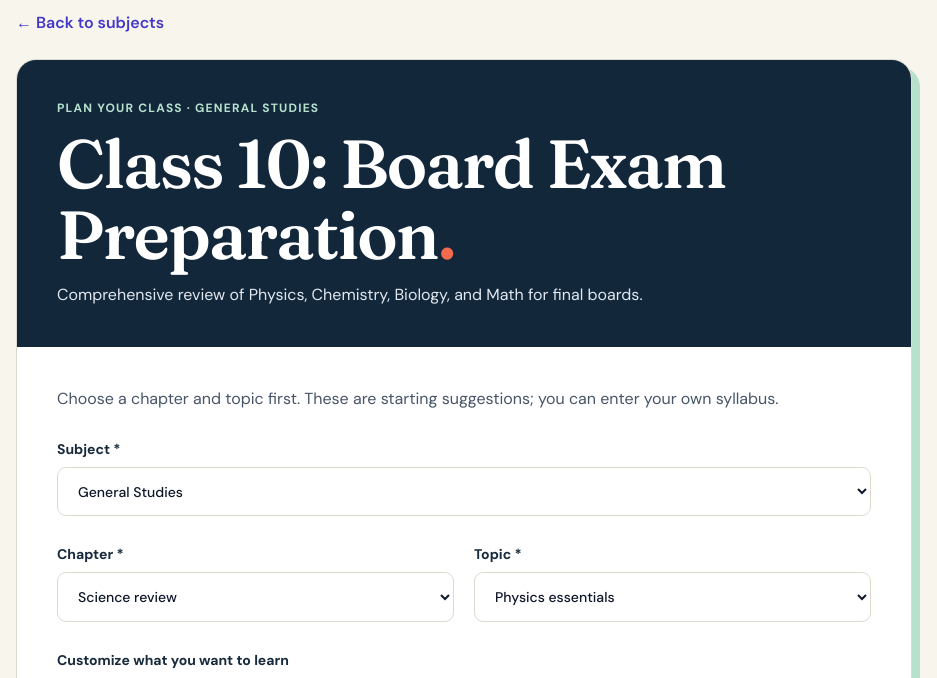
Test: changing a multi-subject course resets chapter and topic to relevant choices
This screenshot has width=937, height=678.
Select "Physics" in the dropdown labelled "Subject" at coordinates (464, 492), box [57, 467, 871, 516]
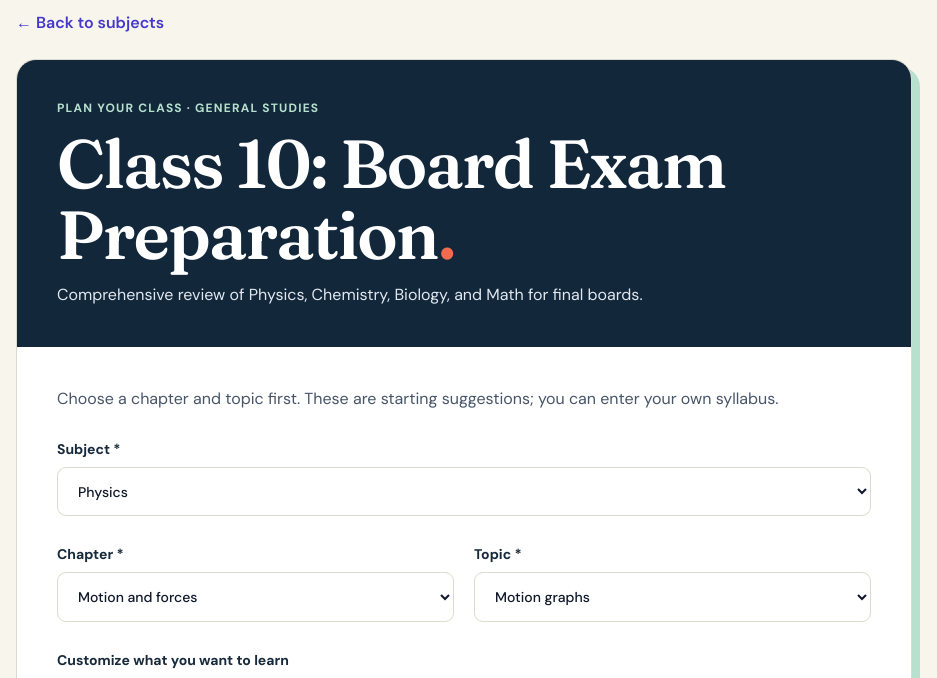
Check: the dropdown labelled "Chapter" shows "Motion and forces", box [57, 572, 454, 622]
Check: the dropdown labelled "Topic" shows "Motion graphs", box [474, 572, 871, 622]
Select "Chemistry" in the dropdown labelled "Subject" at coordinates (464, 492), box [57, 467, 871, 516]
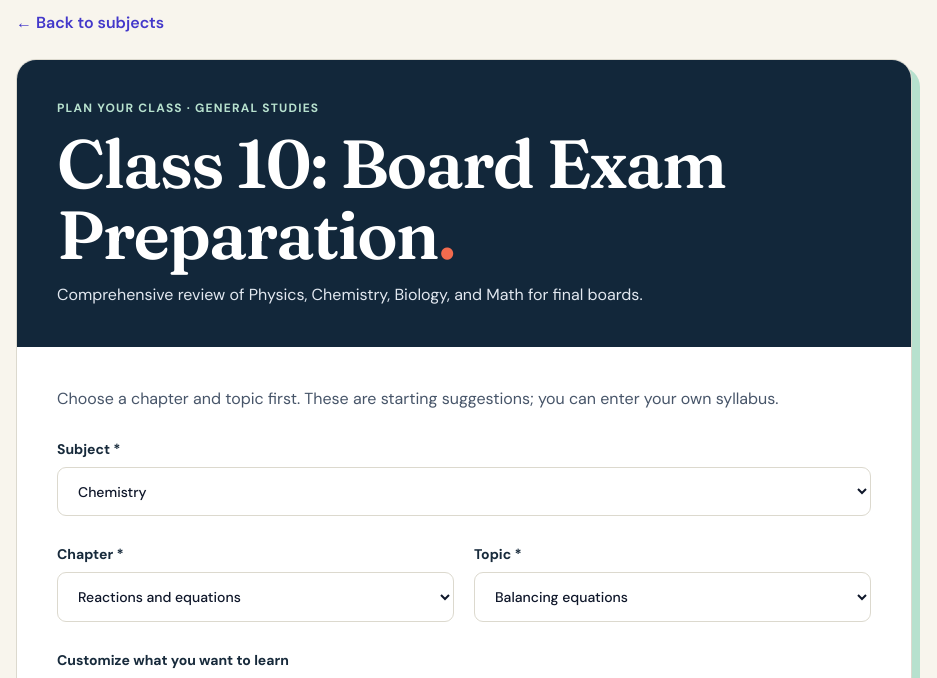
Check: the dropdown labelled "Chapter" shows "Reactions and equations", box [57, 572, 454, 622]
Check: the dropdown labelled "Topic" shows "Balancing equations", box [474, 572, 871, 622]
